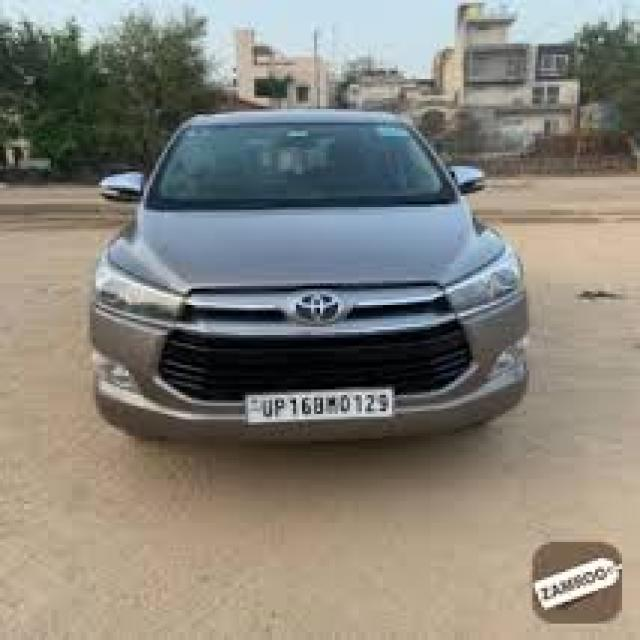light_vehicle: (88, 110, 527, 443)
